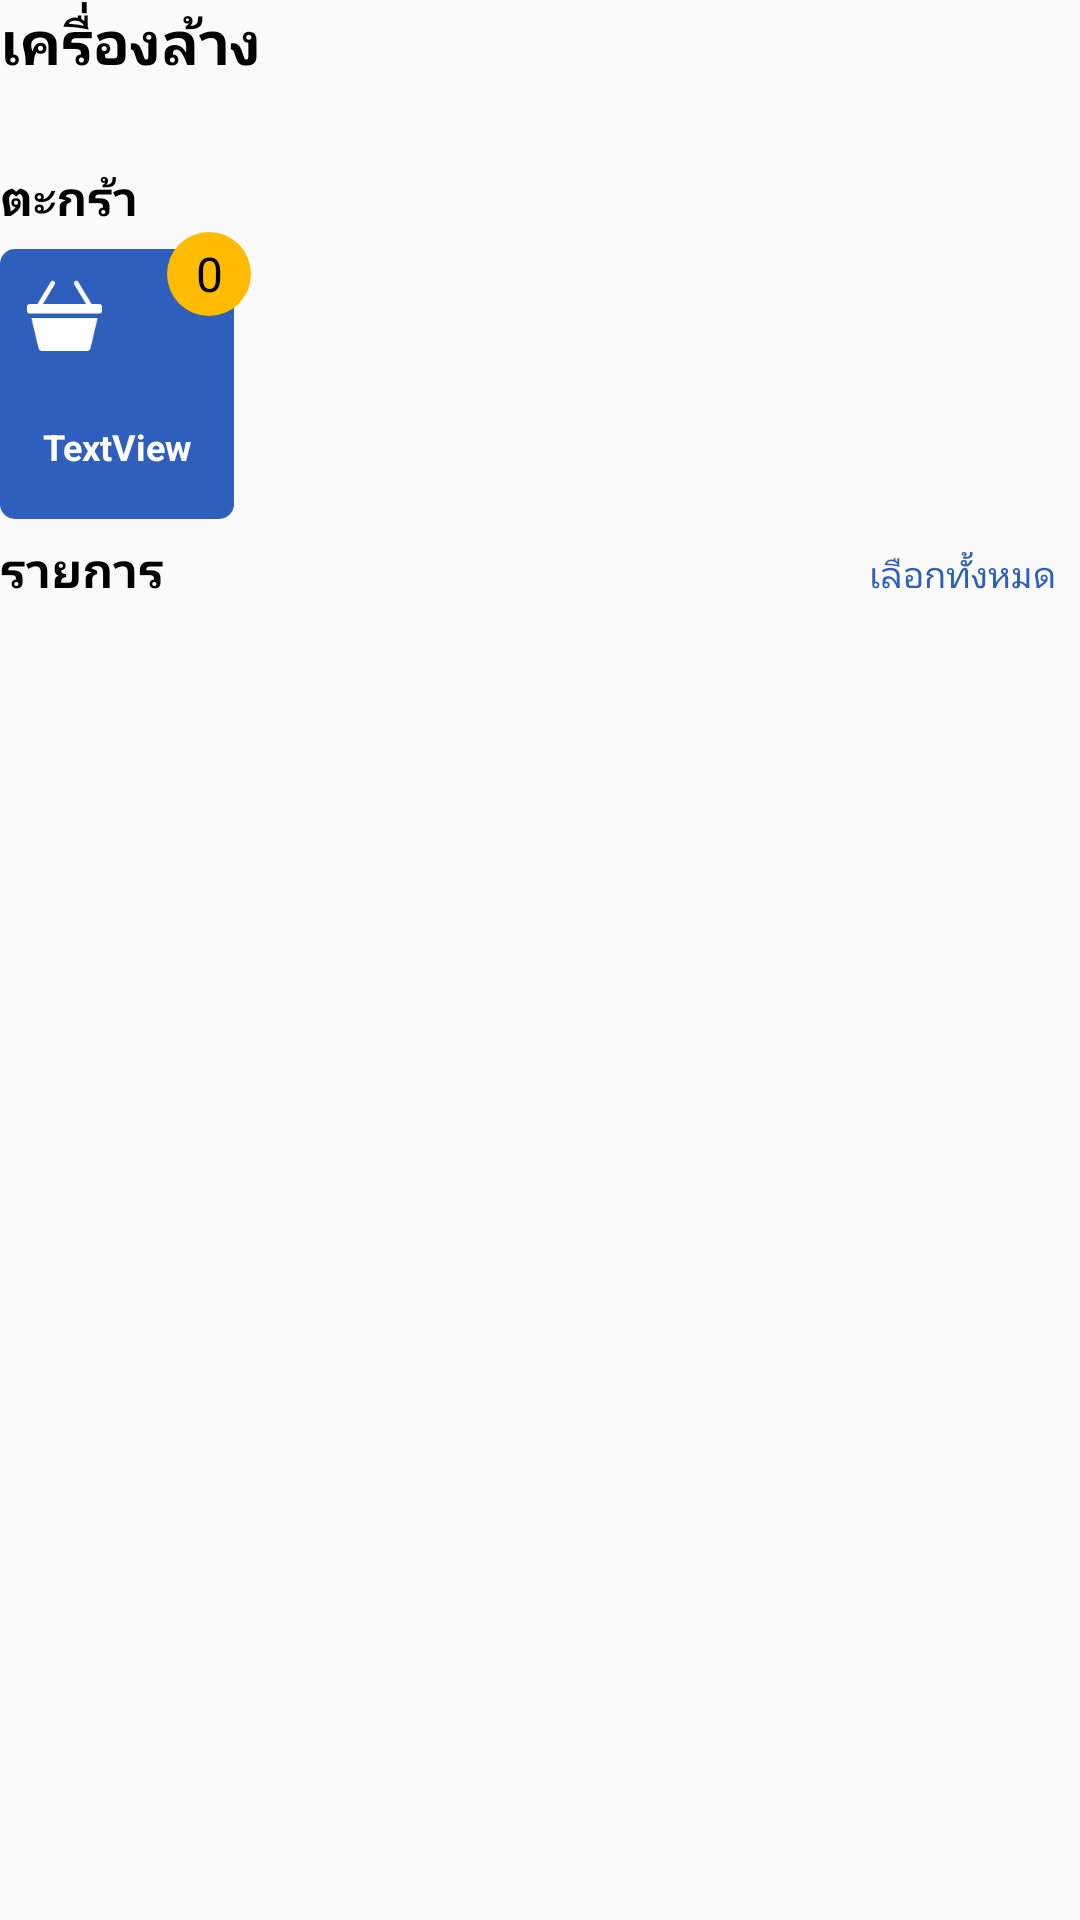

Locate icon controls on the screen. Image size 1080w x 1920h, boxes as (x1,y1,x2,y2).
bi basket: (27,280,102,351)
